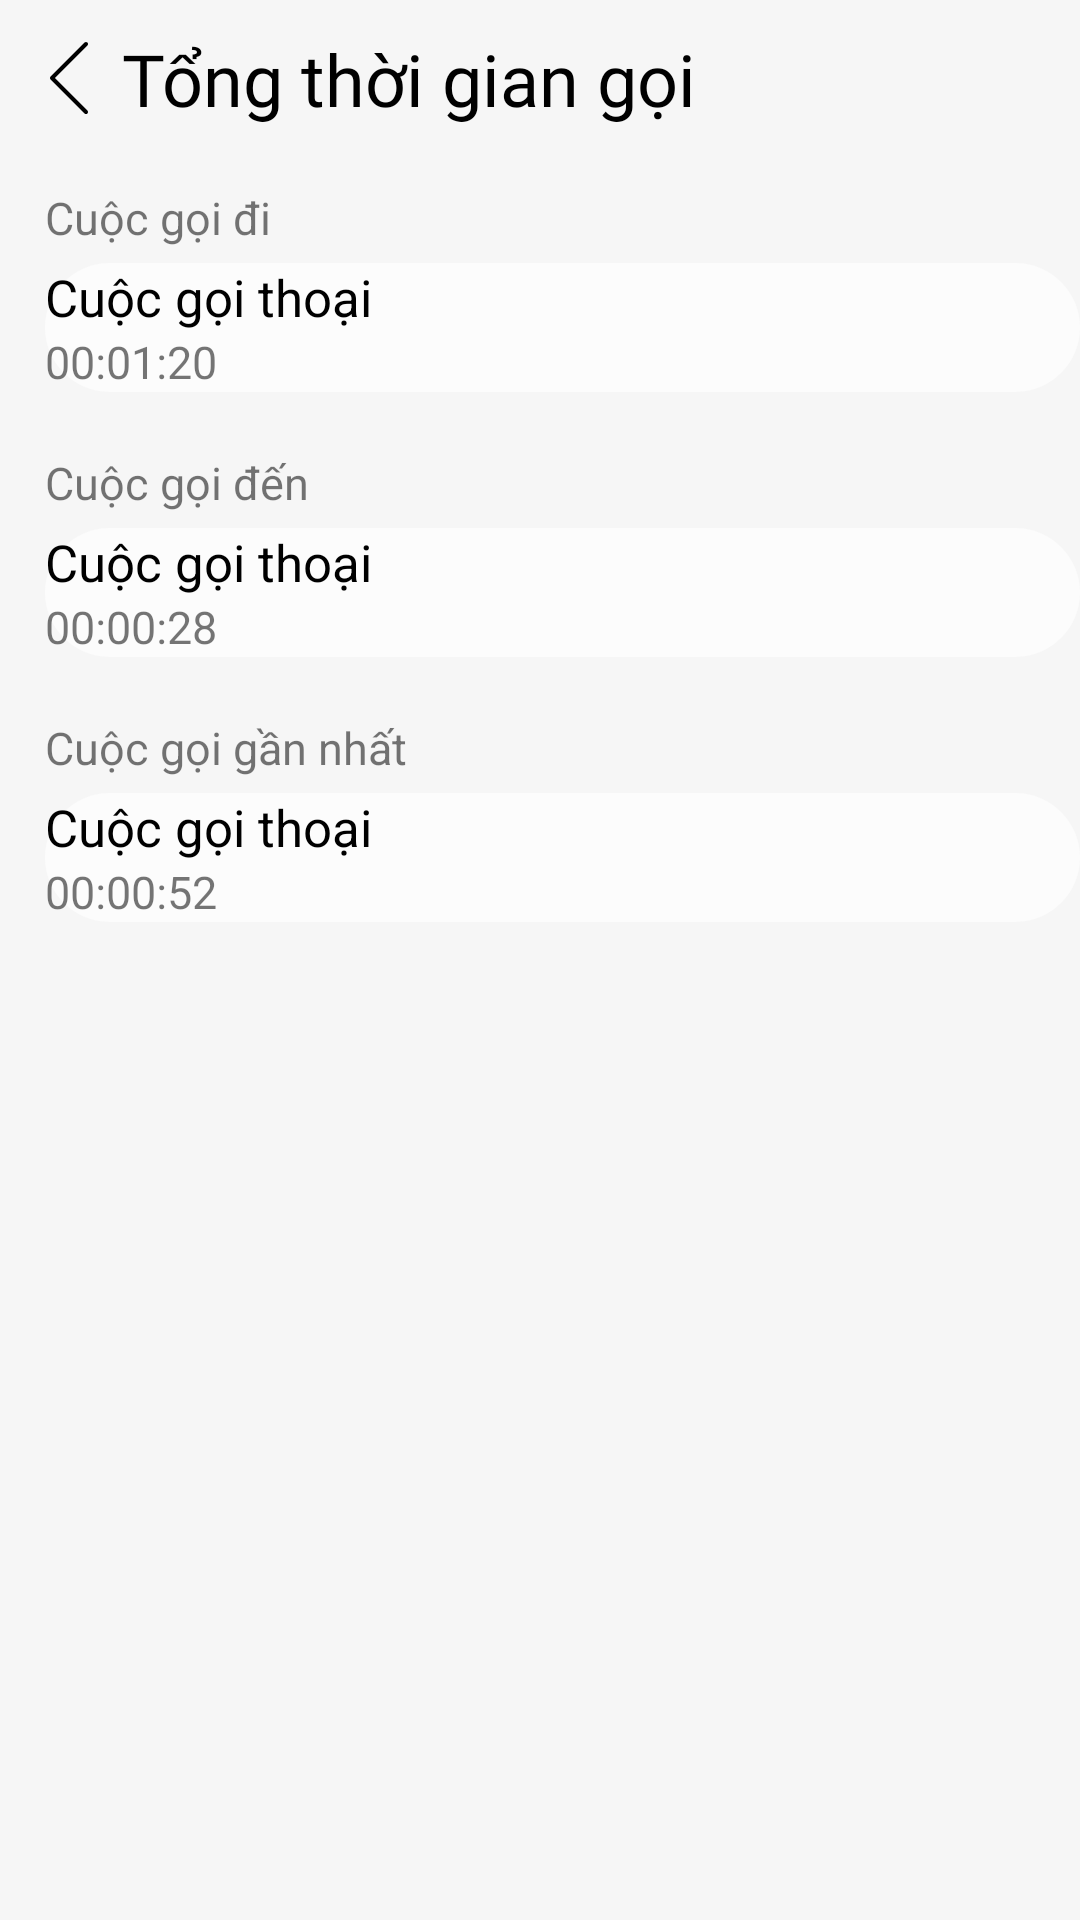

Named icons in this screenshot (1080w x 1920h) and their bounding boxes, [x1, y1, x2, y2]:
backmsg: [50, 42, 88, 114]
